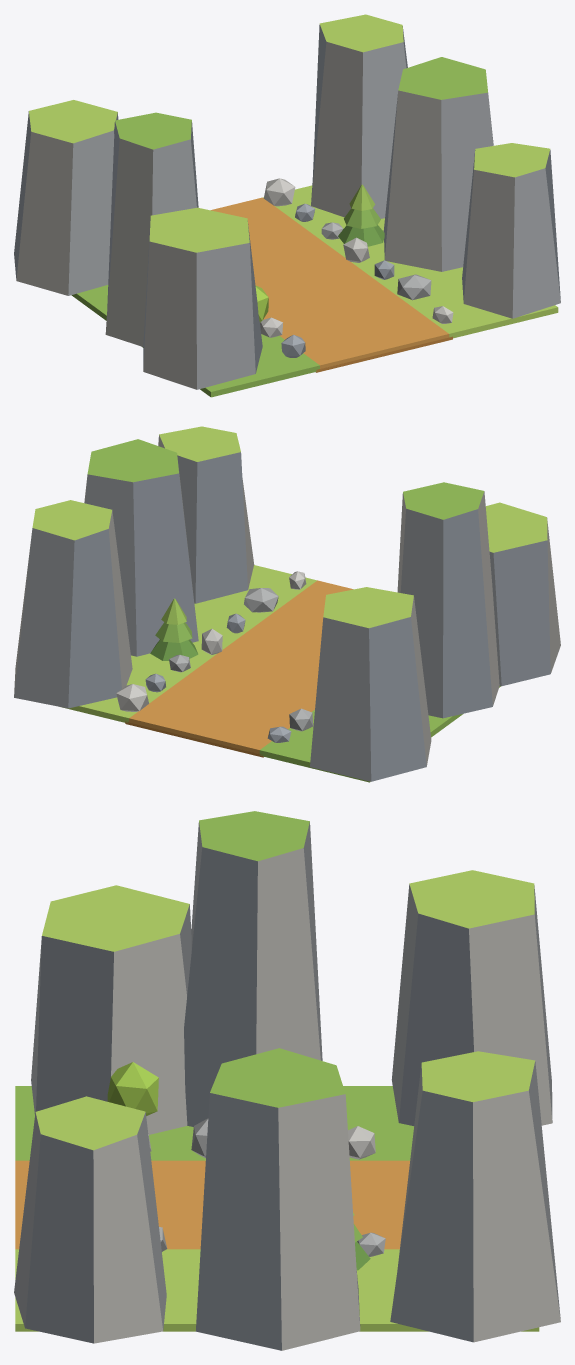
File: canyon-segment-3.glb
The picture shows the model from 3 angles, top to bottom: view 1: azimuth 30°, elevation 25°; view 2: azimuth 150°, elevation 25°; view 3: azimuth 270°, elevation 25°; orthographic projection. The views are drawn at different scales.
Visible parts, largest first — view 1: Cliff_-1_0, Cliff_1_1, Cliff_-1_2, Road, Cliff_1_2, Cliff_1_0, Cliff_-1_1, GrassBank_1, GrassBank_-1, BorderRock_1_1, BorderRock_1_6, Pine_1-crown-0 (+3 smaller); view 2: Cliff_1_2, Cliff_-1_2, Cliff_-1_1, Road, Cliff_1_1, Cliff_1_0, Cliff_-1_0, GrassBank_1, GrassBank_-1, BorderRock_1_6, BorderRock_1_1, Pine_1-crown-0 (+4 smaller); view 3: Cliff_1_1, Cliff_1_2, Cliff_-1_1, Cliff_1_0, Cliff_-1_0, Cliff_-1_2, Road, GrassBank_-1, GrassBank_1, RoundTree_0-crown, BorderRock_-1_4.
Boxes of the visible parts, x1,y1,x2,y2 form: Cliff_-1_0: [143, 207, 262, 389]; Cliff_1_1: [383, 57, 493, 271]; Cliff_-1_2: [14, 100, 118, 295]; Road: [211, 197, 449, 369]; Cliff_1_2: [311, 14, 407, 218]; Cliff_1_0: [462, 143, 560, 318]; Cliff_-1_1: [105, 112, 198, 346]; GrassBank_1: [263, 185, 558, 338]; GrassBank_-1: [71, 285, 319, 397]; BorderRock_1_1: [397, 274, 431, 300]; BorderRock_1_6: [263, 178, 295, 206]; Pine_1-crown-0: [338, 225, 384, 246]; Cliff_1_2: [14, 500, 132, 708]; Cliff_-1_2: [310, 587, 431, 781]; Cliff_-1_1: [397, 482, 499, 718]; Road: [129, 580, 353, 753]; Cliff_1_1: [84, 439, 198, 656]; Cliff_1_0: [158, 426, 254, 603]; Cliff_-1_0: [485, 502, 560, 686]; GrassBank_1: [62, 565, 316, 722]; GrassBank_-1: [259, 686, 500, 782]; BorderRock_1_6: [116, 684, 148, 711]; BorderRock_1_1: [244, 588, 278, 612]; Pine_1-crown-0: [150, 639, 198, 660]; Cliff_1_1: [195, 1048, 360, 1350]; Cliff_1_2: [390, 1051, 560, 1342]; Cliff_-1_1: [184, 811, 322, 1126]; Cliff_1_0: [14, 1096, 166, 1343]; Cliff_-1_0: [31, 885, 191, 1134]; Cliff_-1_2: [391, 870, 552, 1125]; Road: [15, 1160, 409, 1249]; GrassBank_-1: [15, 1086, 413, 1160]; GrassBank_1: [15, 1249, 539, 1331]; RoundTree_0-crown: [107, 1062, 158, 1115]; BorderRock_-1_4: [348, 1126, 375, 1159].
Size of the model in its own units: 20.74 by 9.43 by 16.7.
